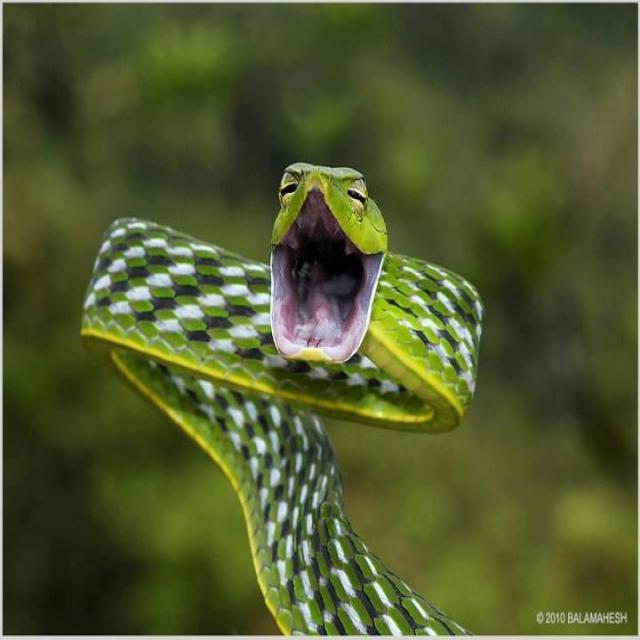Snake: (80, 160, 484, 636)
